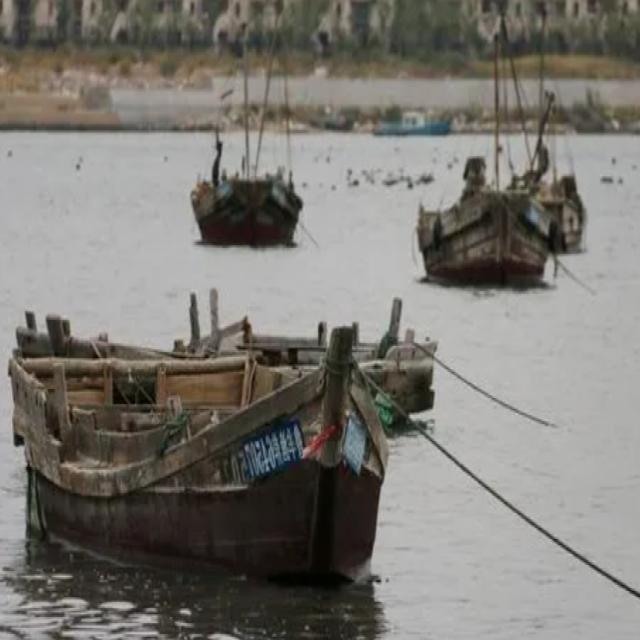fishing boat: (10, 314, 382, 570), (412, 24, 583, 273), (191, 284, 436, 431), (188, 0, 302, 239)
